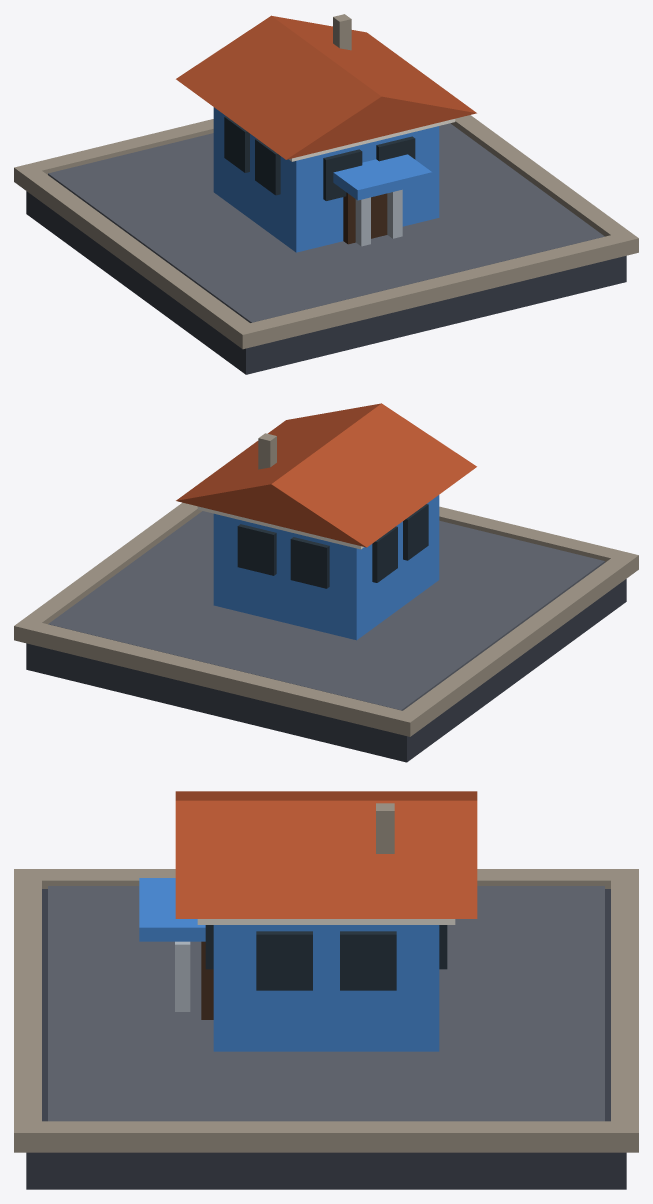
File: city.house_1.glb
The picture shows the model from 3 angles, top to bottom: view 1: azimuth 30°, elevation 25°; view 2: azimuth 150°, elevation 25°; view 3: azimuth 270°, elevation 25°; orthographic projection. The views are drawn at different scales.
Parts seen in each view (by area): view 1: city.house_1; view 2: city.house_1; view 3: city.house_1.
Boxes of the visible parts, left/top/right/bottom form: city.house_1: left=14, top=14, right=638, bottom=374; city.house_1: left=14, top=403, right=638, bottom=762; city.house_1: left=14, top=791, right=638, bottom=1189.
Size of the model in its own units: 2.02 by 1 by 2.02.
